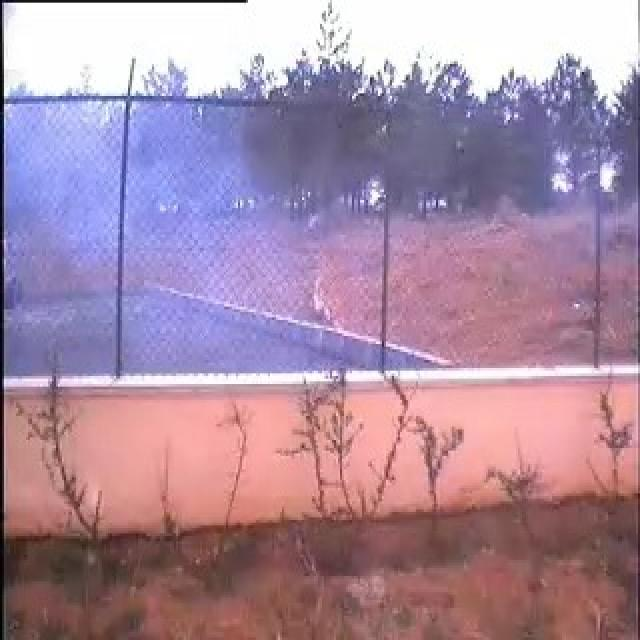smoke: (26, 97, 292, 377)
